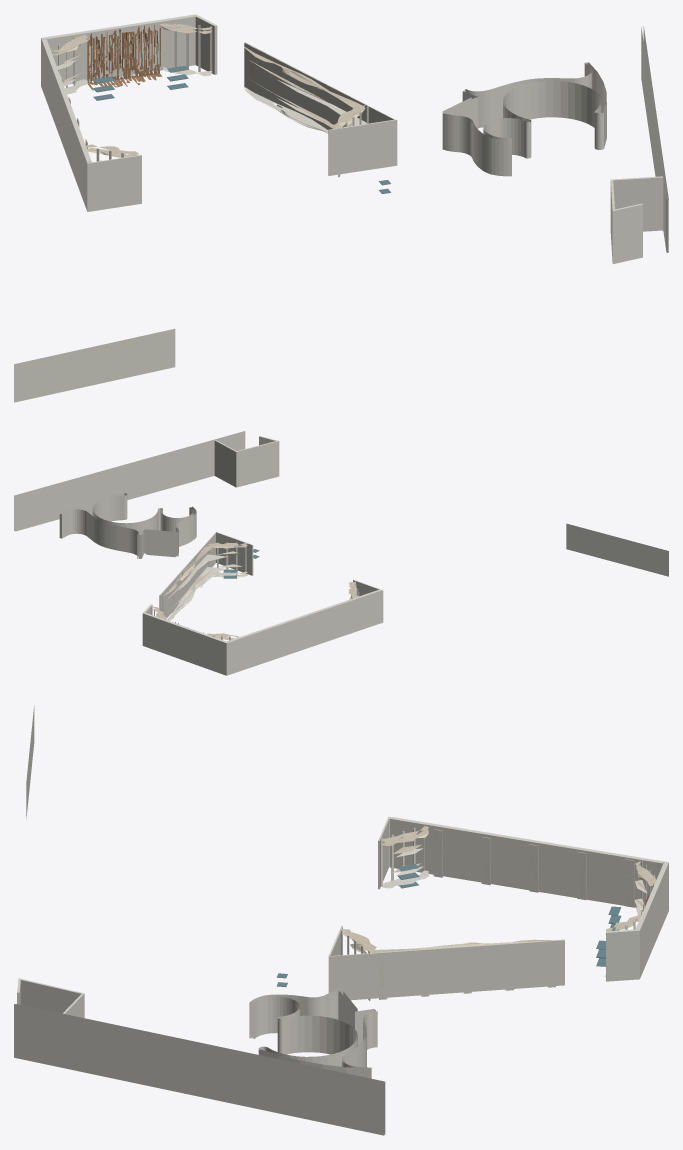
File: city-preview.glb
The picture shows the model from 3 angles, top to bottom: view 1: azimuth 30°, elevation 25°; view 2: azimuth 150°, elevation 25°; view 3: azimuth 270°, elevation 25°; orthographic projection. The views are drawn at different scales.
Size of the model in its own units: 56.01 by 3.74 by 39.46.
